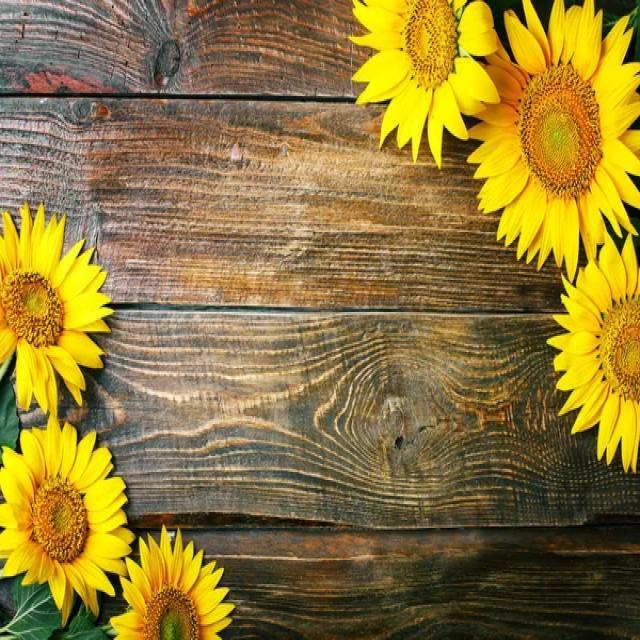sunflower: (465, 0, 639, 280), (0, 414, 134, 625), (348, 0, 500, 168), (0, 202, 114, 418), (546, 228, 639, 474), (108, 524, 234, 638)
